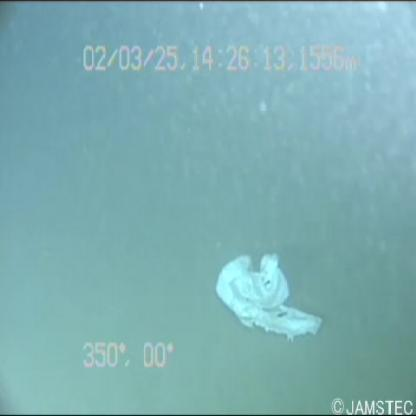Rác: (208, 249, 324, 350)
